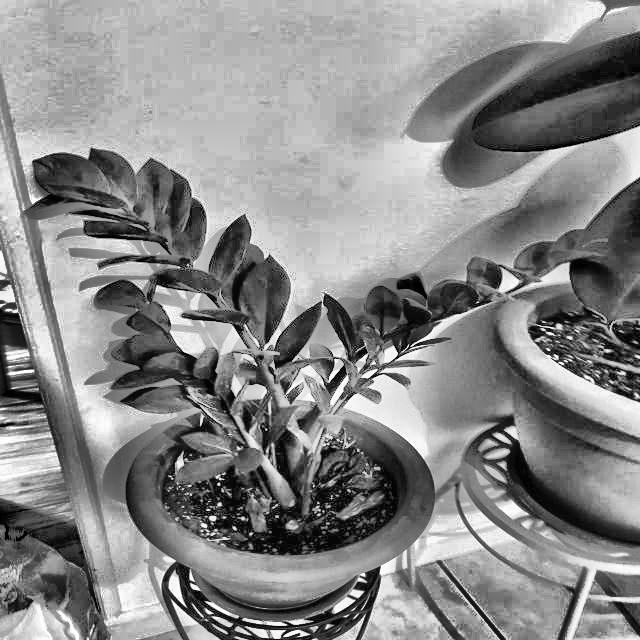plants: (32, 132, 367, 496)
